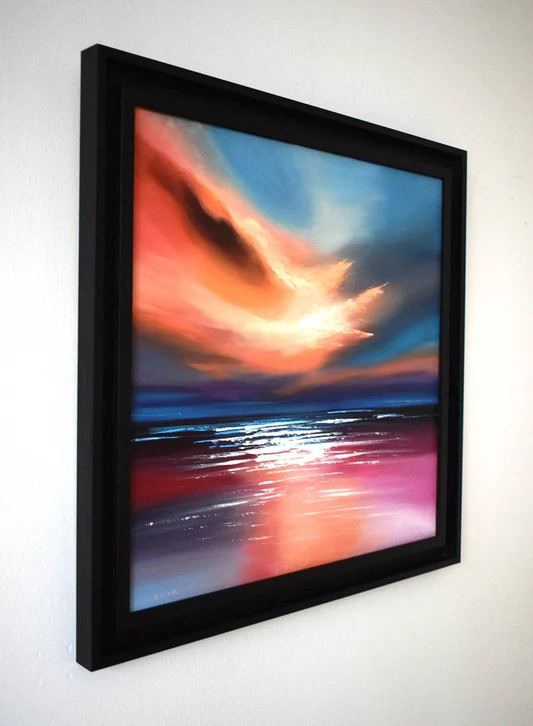painting: (76, 44, 467, 672)
